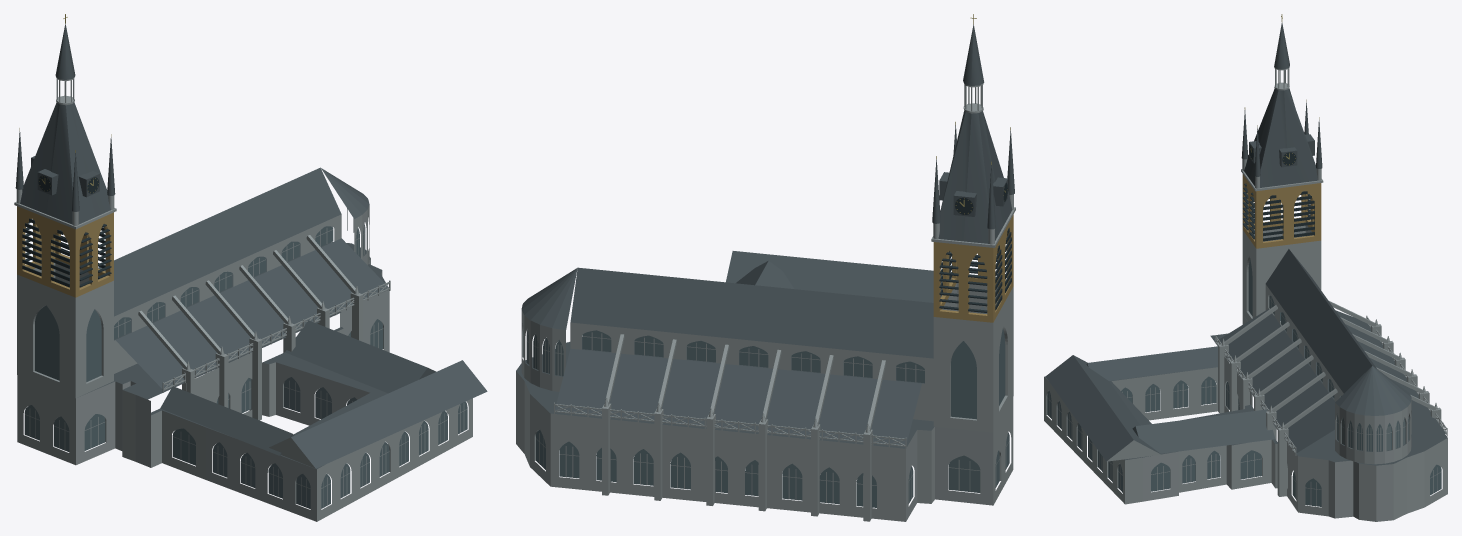
The model's file is saint-paul-cathedral-liege-near.glb.
The picture shows the model from 3 angles, left to right: view 1: azimuth 30°, elevation 25°; view 2: azimuth 150°, elevation 25°; view 3: azimuth 270°, elevation 25°; orthographic projection. The views are drawn at different scales.
Parts seen in each view (by area): view 1: saint-paul-cathedral-liege-0-roof, saint-paul-cathedral-liege-0-stone, saint-paul-cathedral-liege-0-glass, saint-paul-cathedral-liege-0-ochre, saint-paul-cathedral-liege-0-iron; view 2: saint-paul-cathedral-liege-0-roof, saint-paul-cathedral-liege-0-stone, saint-paul-cathedral-liege-0-glass, saint-paul-cathedral-liege-0-ochre, saint-paul-cathedral-liege-0-iron; view 3: saint-paul-cathedral-liege-0-roof, saint-paul-cathedral-liege-0-stone, saint-paul-cathedral-liege-0-glass, saint-paul-cathedral-liege-0-ochre, saint-paul-cathedral-liege-0-iron.
Part boxes in pixels (x1=…): saint-paul-cathedral-liege-0-roof: x1=15, y1=24, x2=487, y2=469; saint-paul-cathedral-liege-0-stone: x1=14, y1=77, x2=472, y2=521; saint-paul-cathedral-liege-0-glass: x1=24, y1=224, x2=467, y2=508; saint-paul-cathedral-liege-0-ochre: x1=17, y1=206, x2=113, y2=297; saint-paul-cathedral-liege-0-iron: x1=22, y1=175, x2=111, y2=287; saint-paul-cathedral-liege-0-roof: x1=516, y1=24, x2=1014, y2=448; saint-paul-cathedral-liege-0-stone: x1=516, y1=83, x2=1015, y2=521; saint-paul-cathedral-liege-0-glass: x1=523, y1=329, x2=1009, y2=507; saint-paul-cathedral-liege-0-ochre: x1=933, y1=214, x2=1013, y2=322; saint-paul-cathedral-liege-0-iron: x1=939, y1=183, x2=1011, y2=312; saint-paul-cathedral-liege-0-roof: x1=1044, y1=22, x2=1447, y2=465; saint-paul-cathedral-liege-0-stone: x1=1044, y1=67, x2=1447, y2=521; saint-paul-cathedral-liege-0-glass: x1=1047, y1=259, x2=1441, y2=506; saint-paul-cathedral-liege-0-ochre: x1=1242, y1=174, x2=1321, y2=248; saint-paul-cathedral-liege-0-iron: x1=1242, y1=145, x2=1314, y2=241.
Bounding box in the file's own units: 85.69 × 90 × 91.03.
